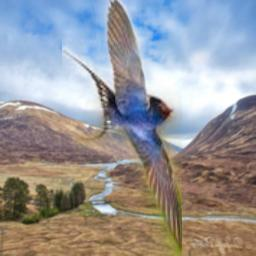Swallow: (62, 0, 182, 256)
